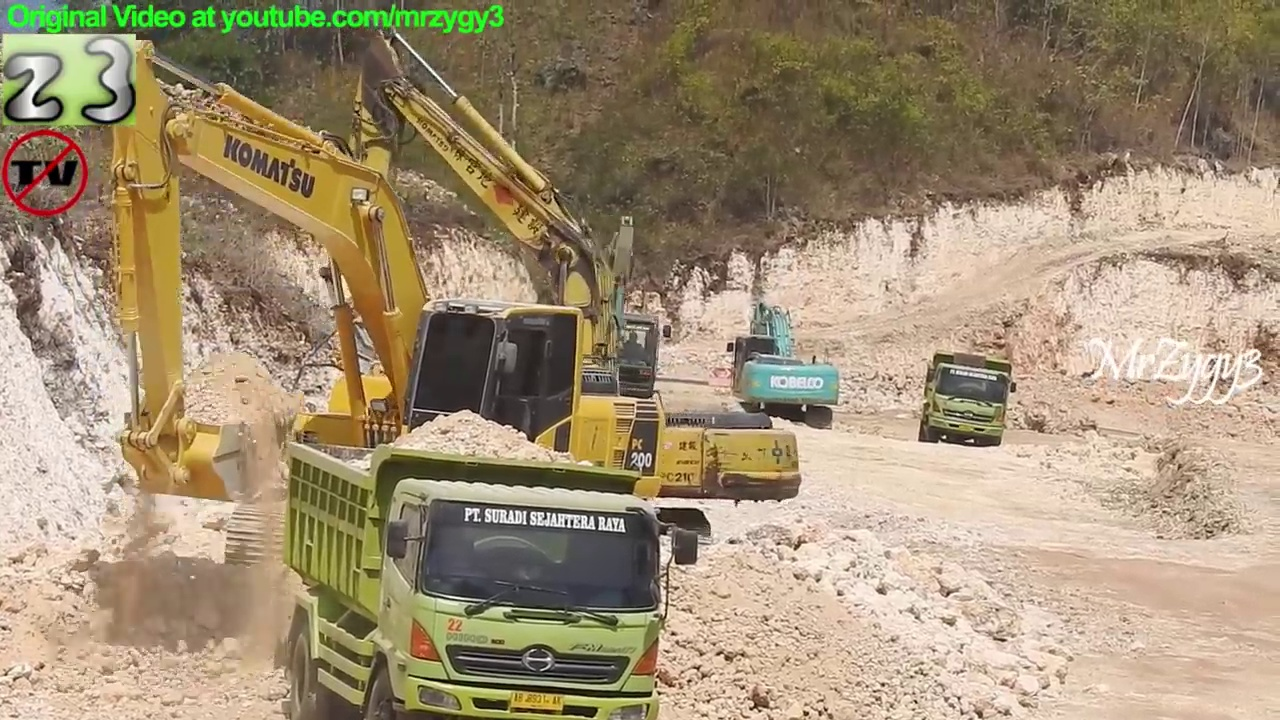excavator: (99, 26, 674, 596), (307, 17, 802, 555), (722, 302, 846, 436)
truck: (275, 427, 708, 720), (915, 348, 1019, 454)
